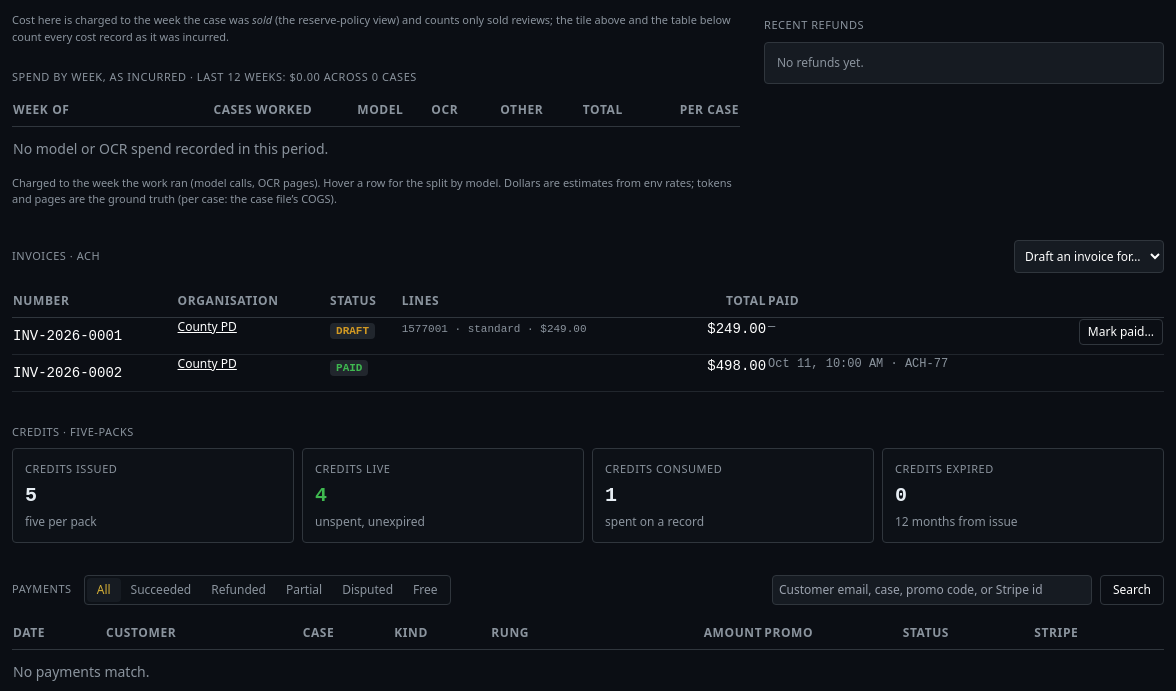
Money: per-rung tiles, invoices and credits (G5) › lists invoices with status and lines, and marks one paid with an ACH reference
(page scrolled)
Expected: the table with test id "invoices-table" shows "INV-2026-0001", [13, 328, 122, 344]
Expected: the table with test id "invoices-table" shows "DRAFT", [336, 324, 369, 336]
Click the button with test id "mark-paid-inv_1": (1121, 332) [1079, 318, 1163, 344]
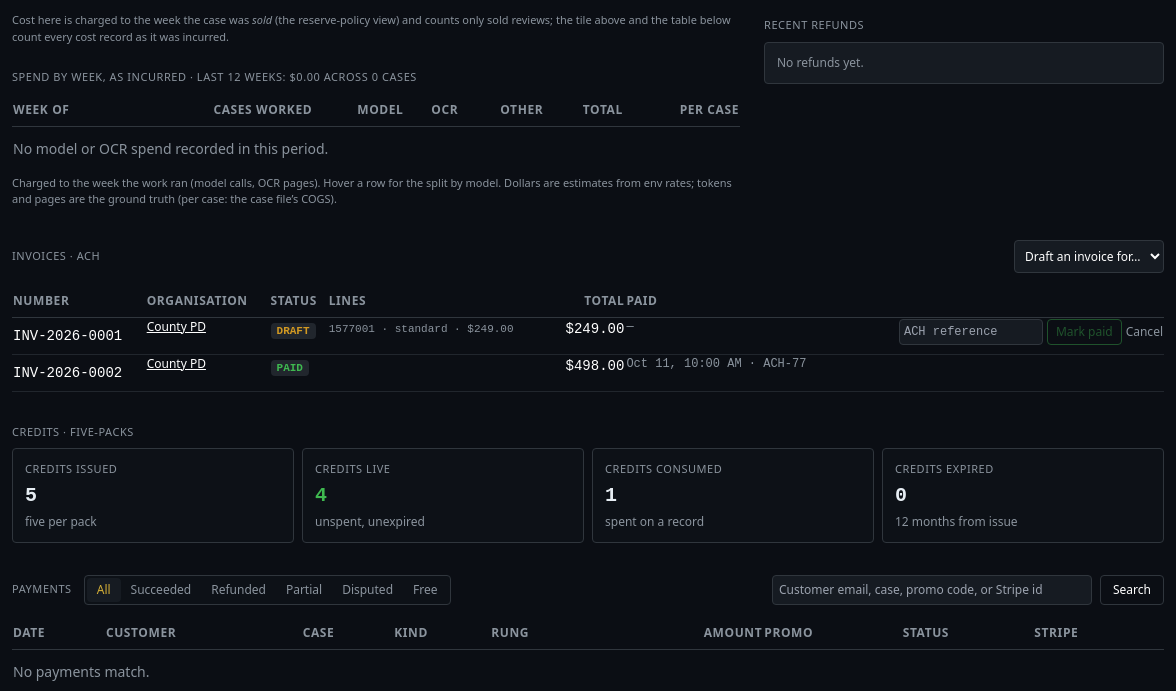
Expected: the button with test id "mark-paid-confirm-inv_1" is disabled, [1047, 318, 1122, 344]
In the field labelled "ACH reference": (971, 332) [899, 318, 1043, 344], type "ACH-99"
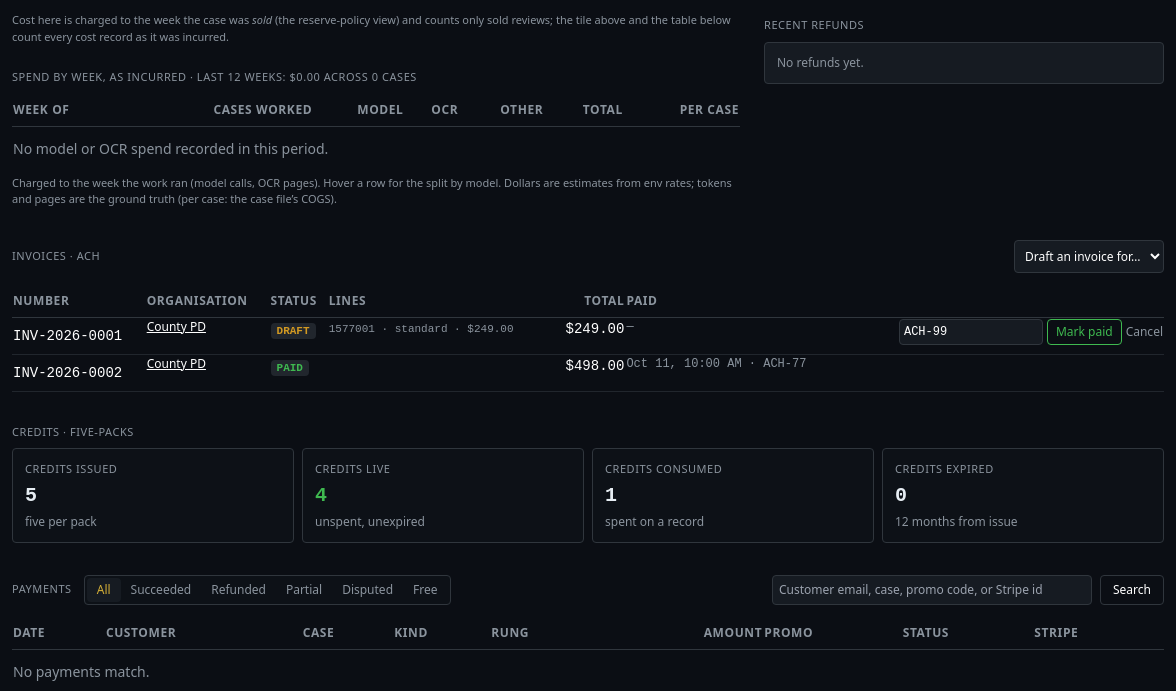
Click the button with test id "mark-paid-confirm-inv_1": (1084, 332) [1047, 318, 1122, 344]
(page scrolled)
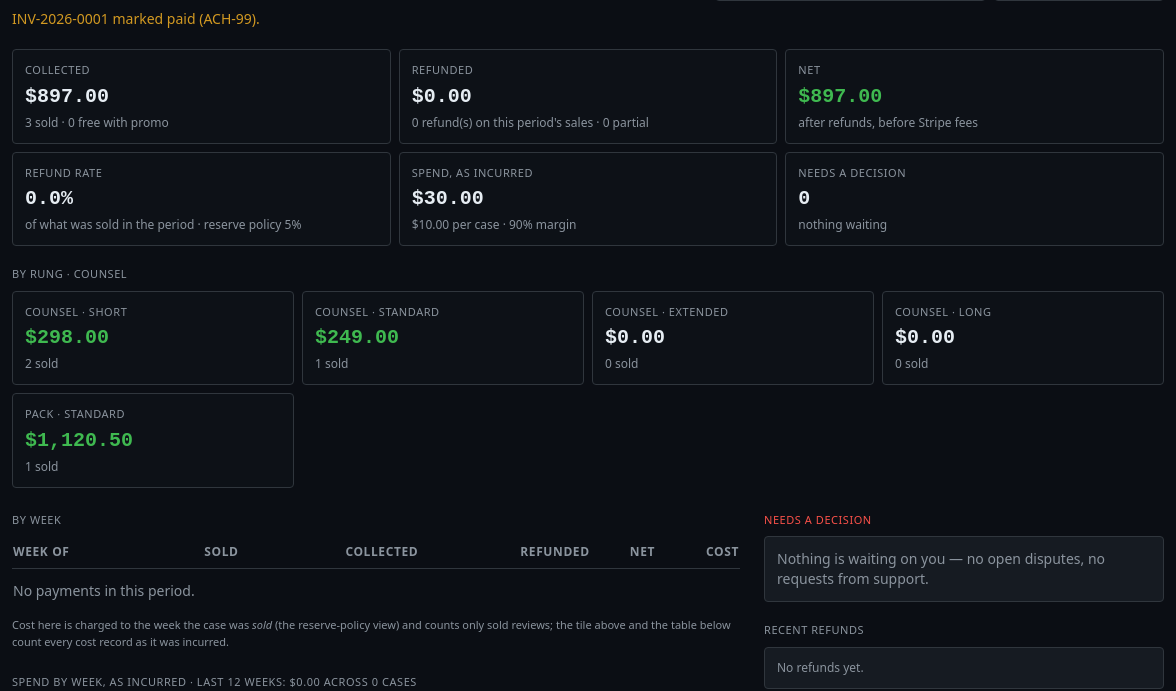
Expected: the text with test id "notice" shows "marked paid", [12, 9, 260, 28]
